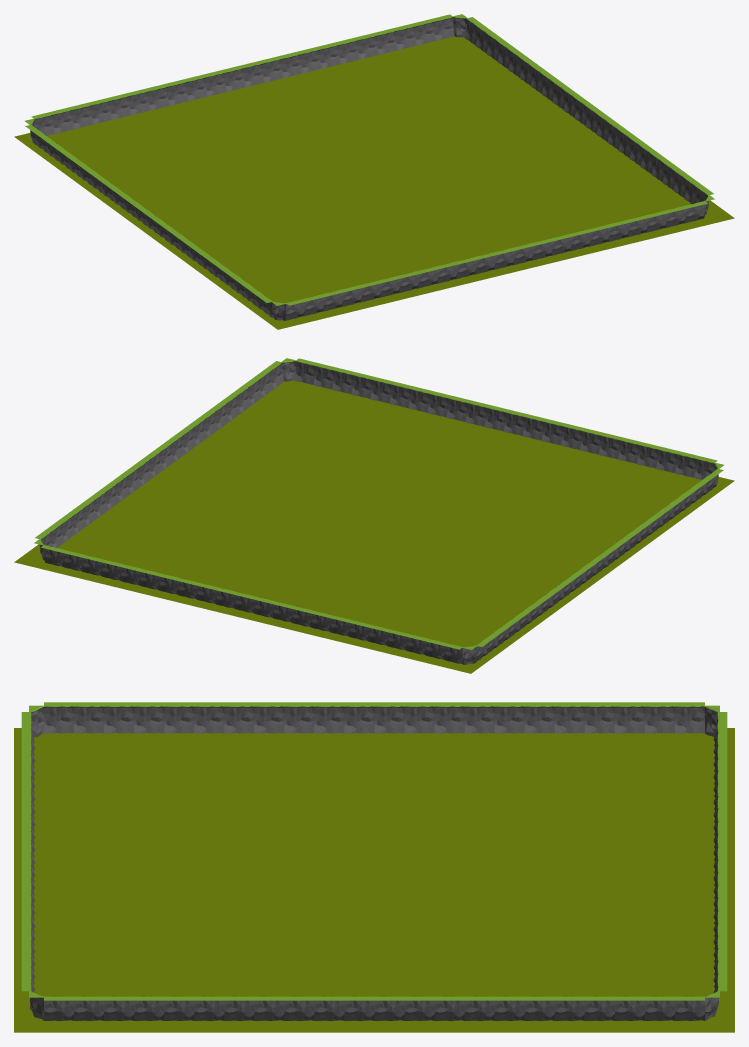
The model's file is Terrain+.fbx.
3 renders of one model, top to bottom at view 1: azimuth 30°, elevation 25°; view 2: azimuth 150°, elevation 25°; view 3: azimuth 270°, elevation 25°, orthographic. The views are drawn at different scales.
Parts seen in each view (by area): view 1: Terrain+; view 2: Terrain+; view 3: Terrain+.
Part boxes in pixels (box(x1,y1,x2,y2)): Terrain+: box(14, 14, 734, 329); Terrain+: box(14, 358, 734, 673); Terrain+: box(14, 702, 734, 1032).
Size of the model in its own units: 9600 by 425 by 9600.
